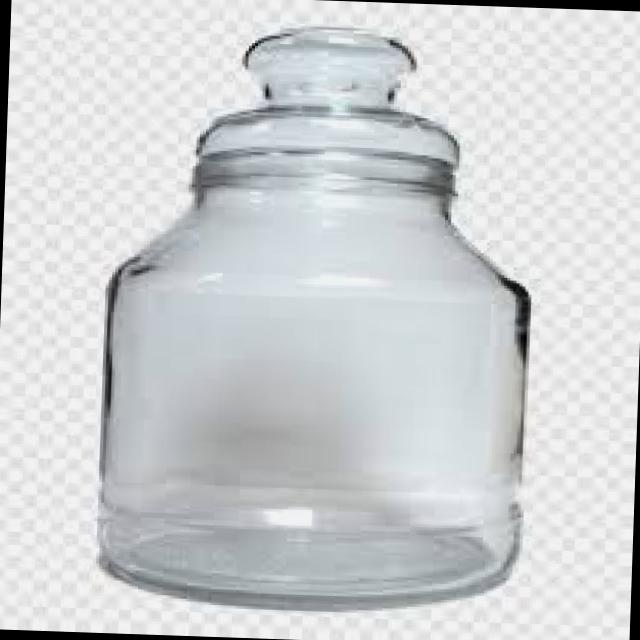bottle: (101, 30, 528, 609)
